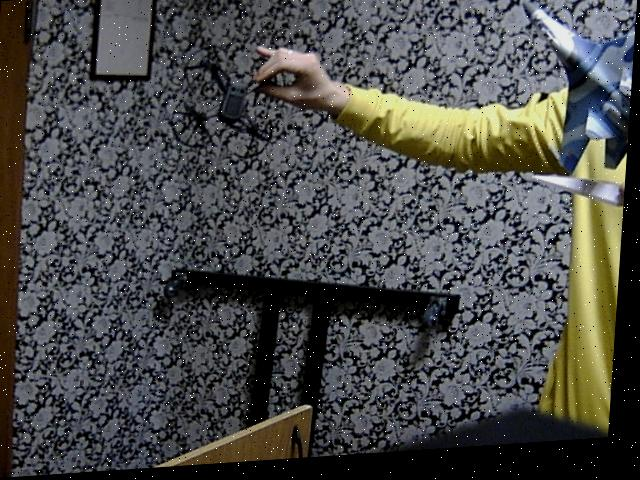drone: (168, 28, 295, 167)
